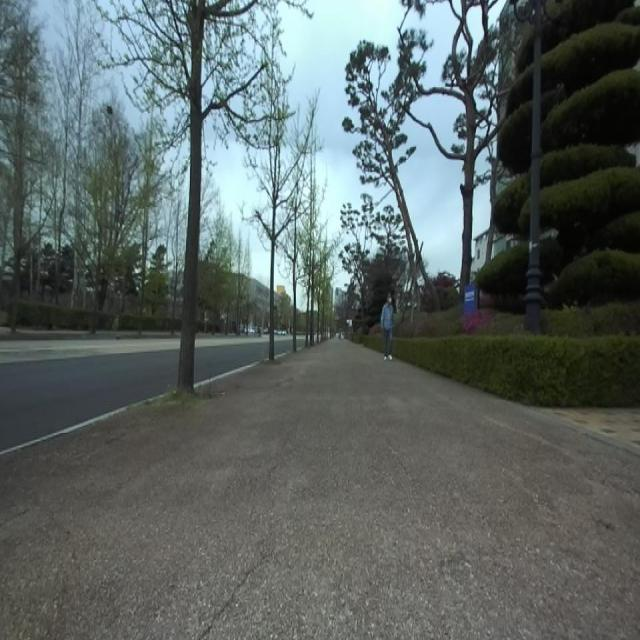sidewalk: (0, 339, 640, 640)
